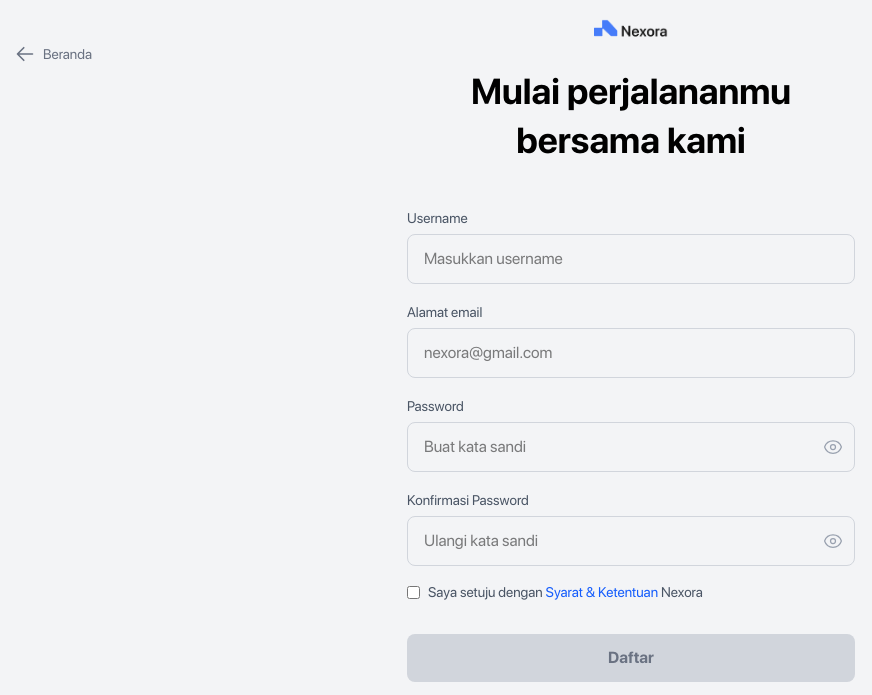
Register Component Error Handling › should display error message for invalid email format (Client-side)
This screenshot has width=872, height=695.
Type "email-salah" into the field with placeholder "nexora@gmail.com".
click(631, 352); type("email-salah")  # box [407,328,855,378]
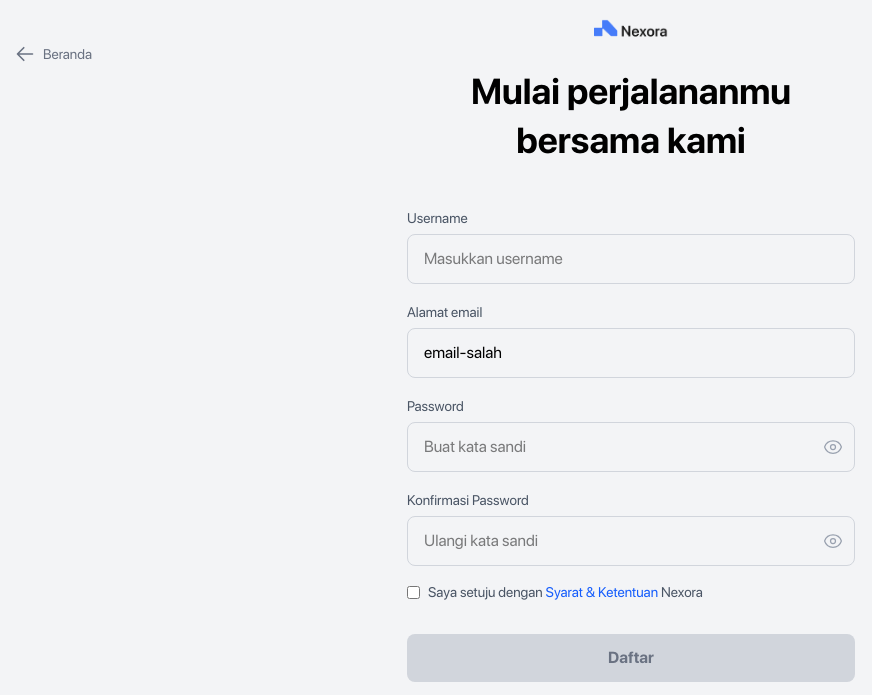
Click the checkbox.
click(414, 592)  # box [407,586,420,598]
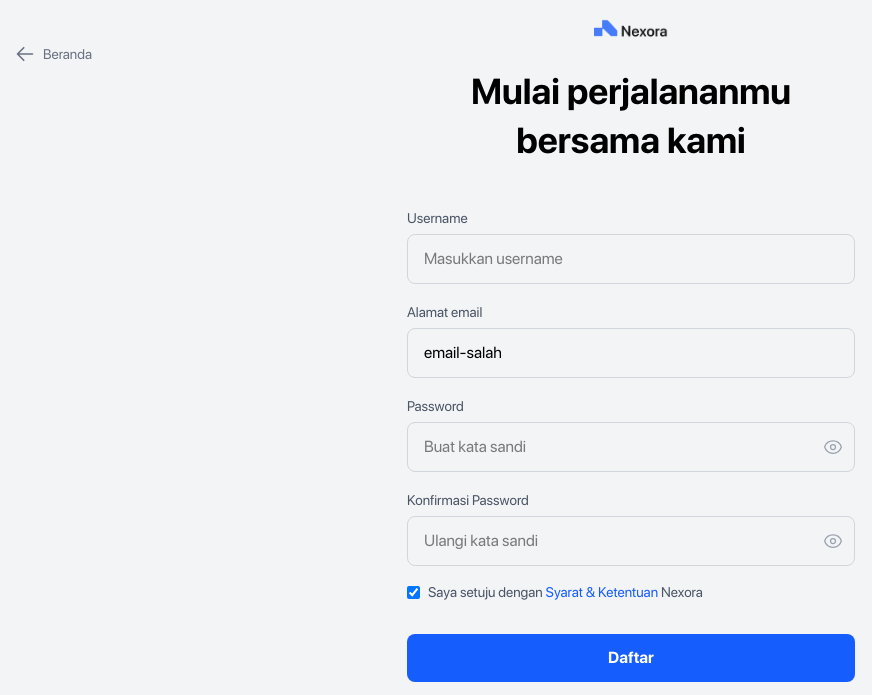
Click the button "Daftar".
click(631, 658)  # box [407,634,855,682]
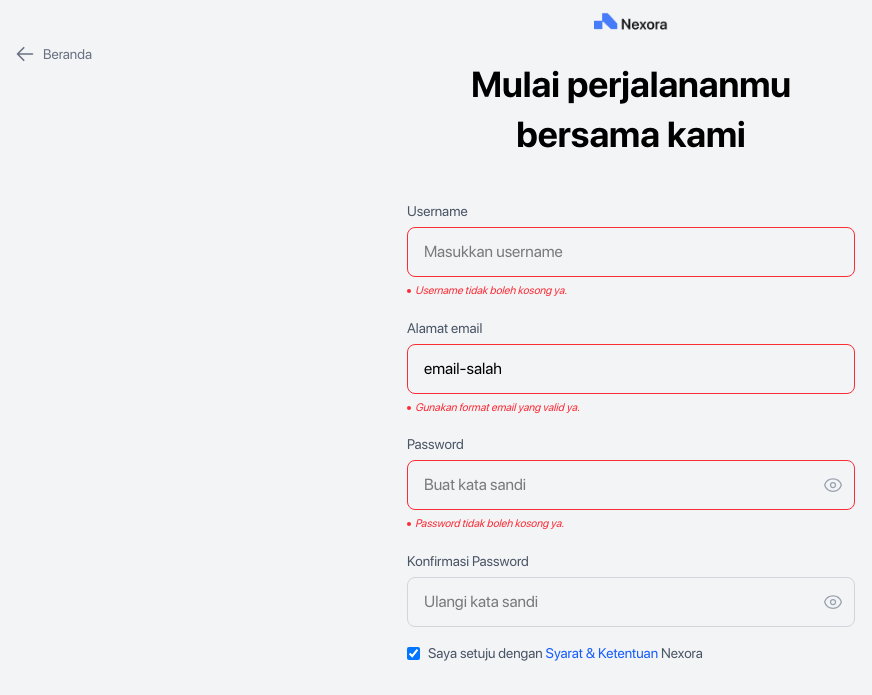
Check: the text "Gunakan format email yang valid ya." is shown, box [407,400,580,414]
